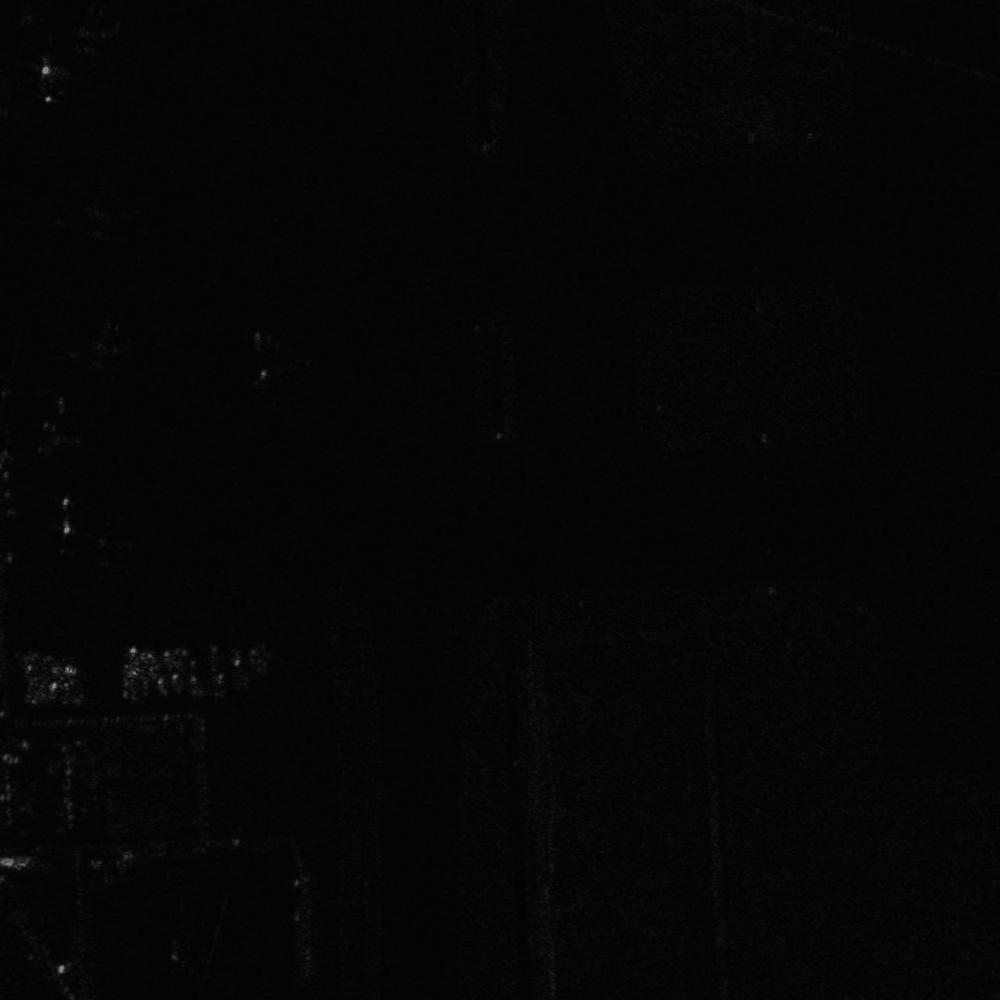A220: (61, 317, 141, 383), (25, 50, 79, 105)
other: (222, 324, 314, 401)
